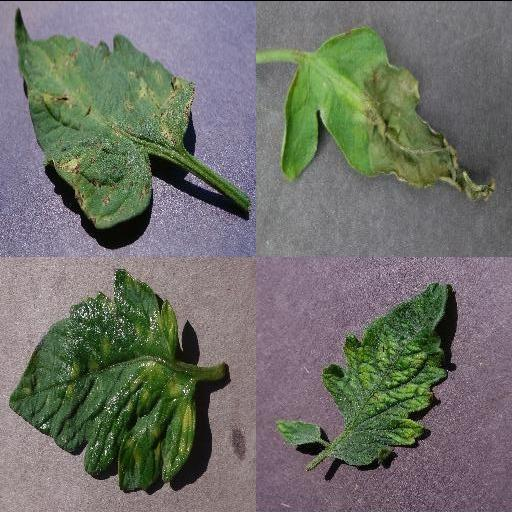Late Blight: (278, 25, 498, 201)
Leaf Mold: (7, 267, 199, 491)
Mosaic Virus: (322, 280, 451, 466), (274, 417, 324, 446)
Septoria: (12, 7, 196, 231)
